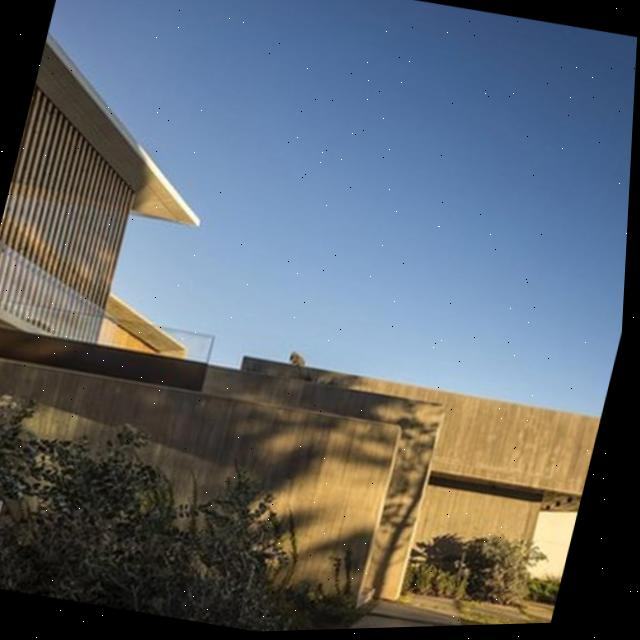building: (0, 294, 607, 640), (0, 26, 264, 365)
